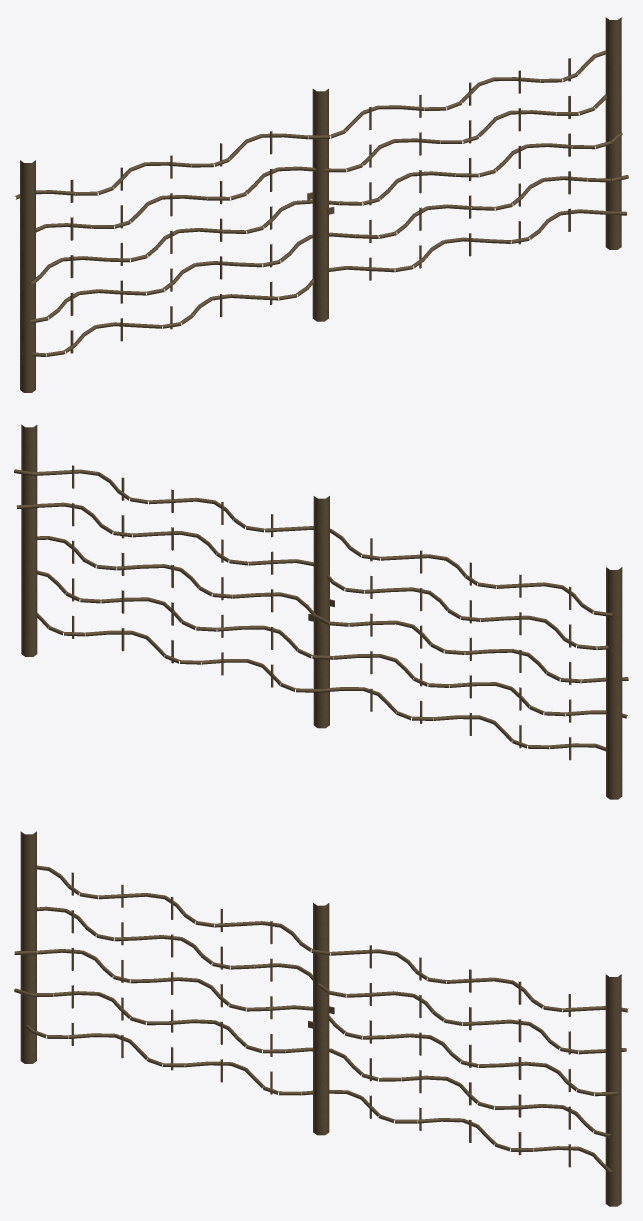
Rendered from wire.glb.
The picture shows the model from 3 angles, top to bottom: view 1: azimuth 30°, elevation 25°; view 2: azimuth 150°, elevation 25°; view 3: azimuth 330°, elevation 25°; orthographic projection.
Visible parts, largest first — view 1: LOD0; view 2: LOD0; view 3: LOD0.
Boxes of the visible parts, <box> form: LOD0: <box>14,17,628,392</box>; LOD0: <box>14,424,628,799</box>; LOD0: <box>14,831,628,1206</box>.
Size of the model in its own units: 3 by 1.1 by 0.18.
Materials: 1 (1 with a texture image).
